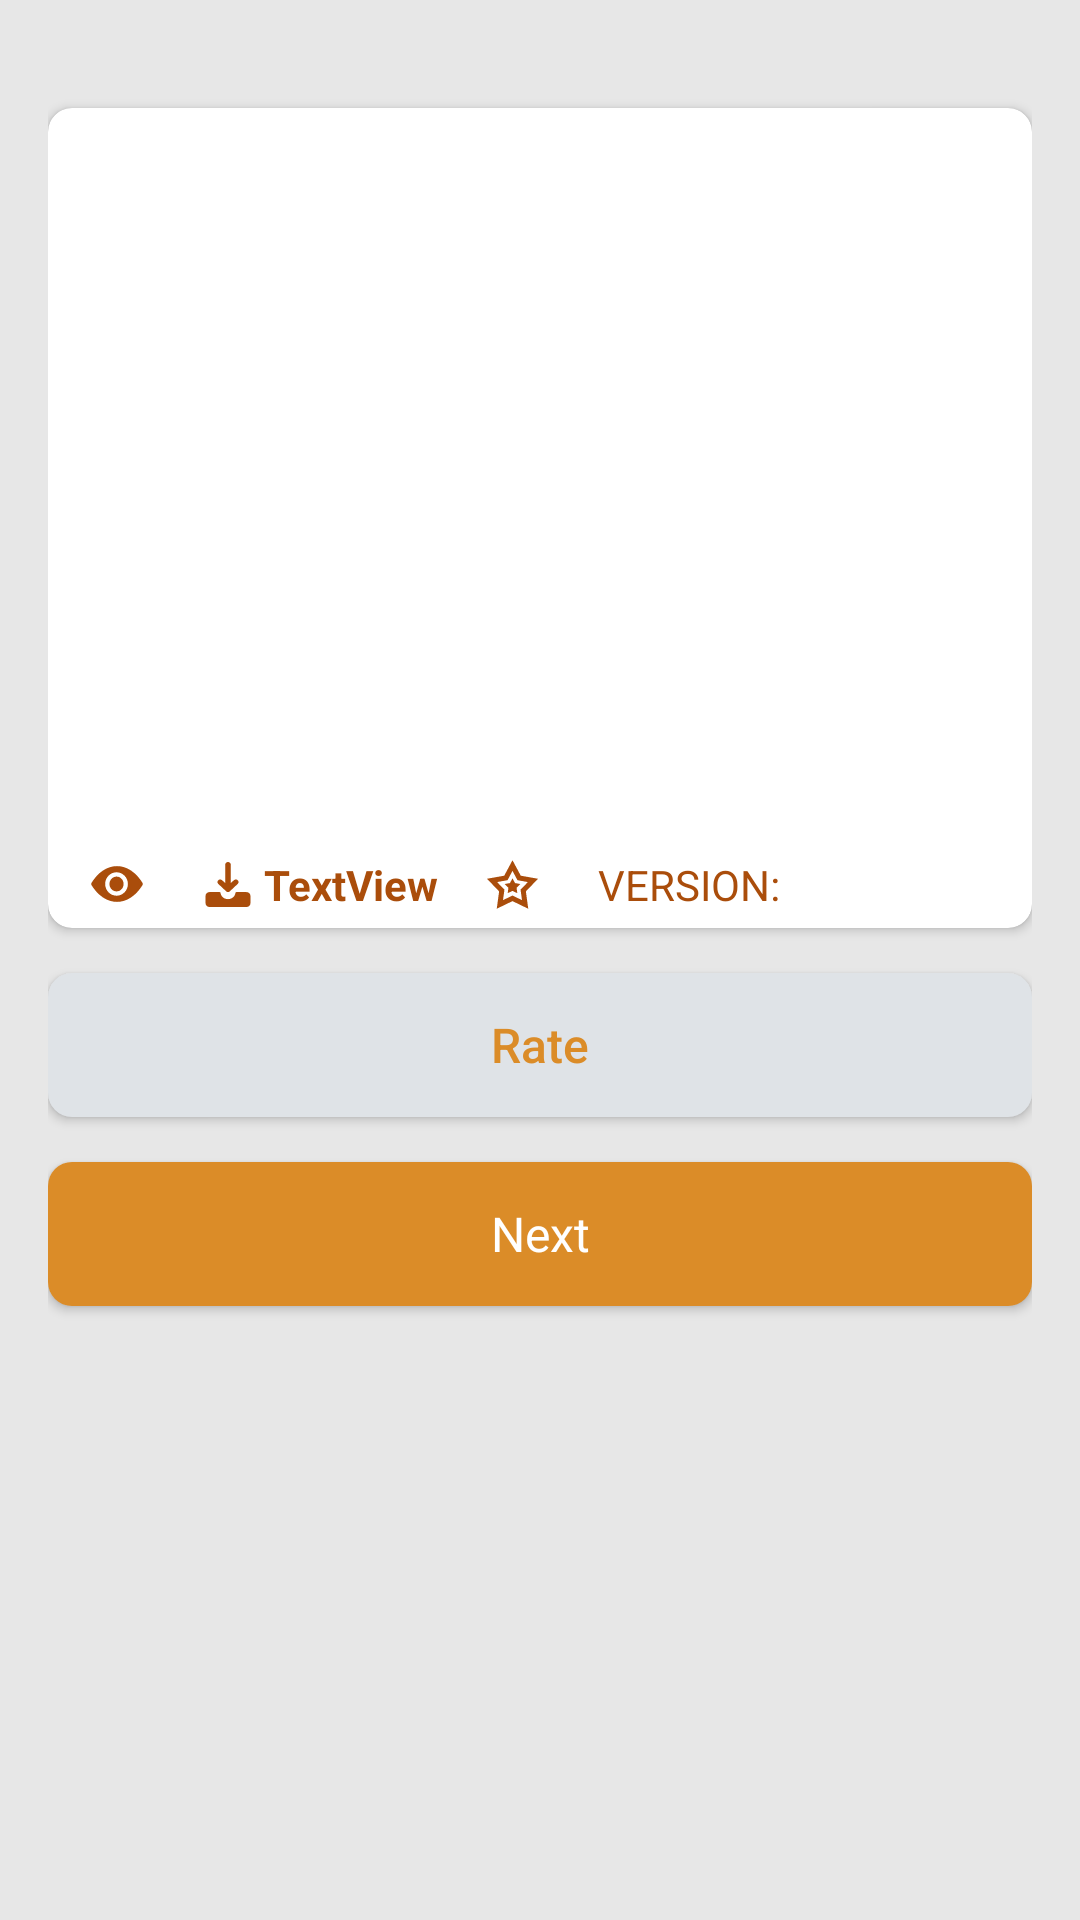

Icons on this 1080w x 1920h Android screen, each with its box as (x1, y1, x2, y2):
download: (205, 862, 251, 907)
eye: (91, 866, 143, 902)
star: (487, 860, 538, 909)
